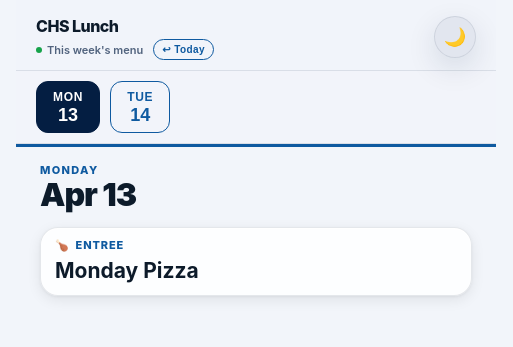
Test case: App › selects a date from the URL and keeps selected day shareable
Check: the list item "Monday Pizza" is shown, box [55,258,199,283]
Click the tab with aria-label "Tuesday, April 14, today" at (140, 107), box [110,81,170,133]
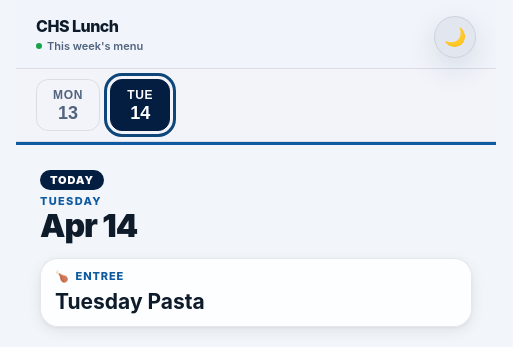
Check: the list item "Tuesday Pasta" is shown, box [55,289,205,314]
